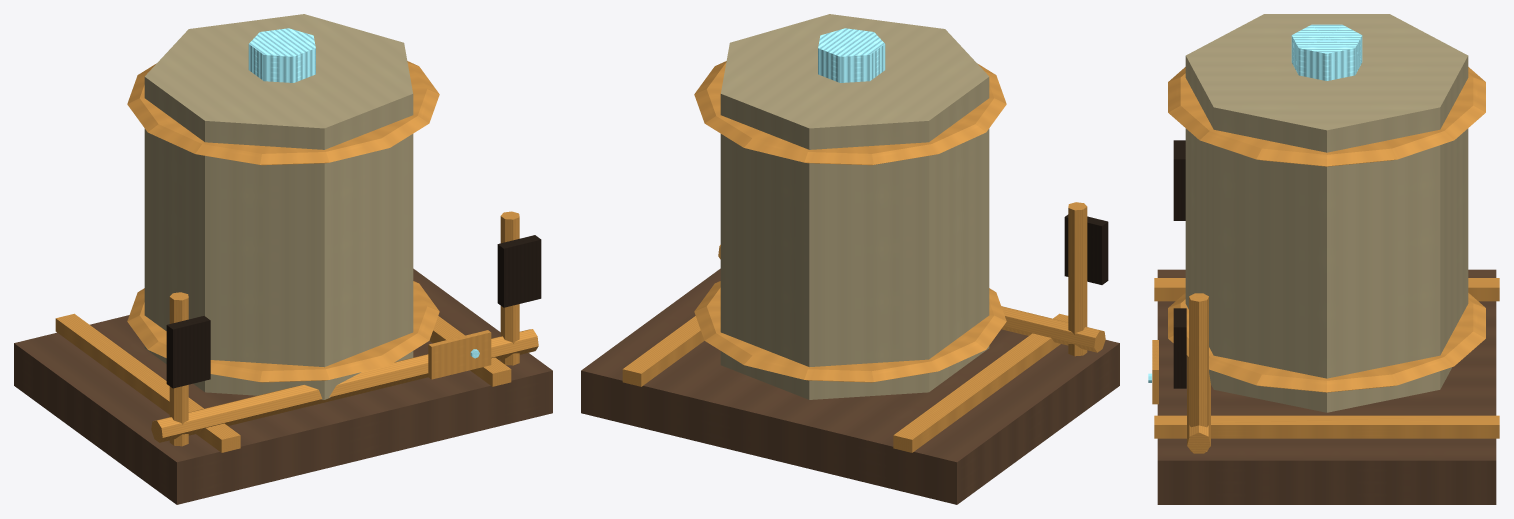
The model's file is atlas100-s017-a02.lod1.glb.
The picture shows the model from 3 angles, left to right: view 1: azimuth 30°, elevation 25°; view 2: azimuth 150°, elevation 25°; view 3: azimuth 270°, elevation 25°; orthographic projection. The views are drawn at different scales.
Visible parts, largest first — view 1: atlas100-s017-a02:part-003, atlas100-s017-a02:part-000, atlas100-s017-a02:part-005, atlas100-s017-a02:part-012, atlas100-s017-a02:part-004, atlas100-s017-a02:part-001, atlas100-s017-a02:part-006, atlas100-s017-a02:part-009, atlas100-s017-a02:part-011, atlas100-s017-a02:part-013, atlas100-s017-a02:part-008, atlas100-s017-a02:part-010 (+1 smaller); view 2: atlas100-s017-a02:part-003, atlas100-s017-a02:part-000, atlas100-s017-a02:part-005, atlas100-s017-a02:part-004, atlas100-s017-a02:part-001, atlas100-s017-a02:part-006, atlas100-s017-a02:part-008, atlas100-s017-a02:part-002, atlas100-s017-a02:part-012, atlas100-s017-a02:part-009; view 3: atlas100-s017-a02:part-003, atlas100-s017-a02:part-000, atlas100-s017-a02:part-005, atlas100-s017-a02:part-002, atlas100-s017-a02:part-004, atlas100-s017-a02:part-006, atlas100-s017-a02:part-010, atlas100-s017-a02:part-001, atlas100-s017-a02:part-011, atlas100-s017-a02:part-009, atlas100-s017-a02:part-012, atlas100-s017-a02:part-013.
Boxes of the visible parts, x1,y1,x2,y2 form: atlas100-s017-a02:part-003: (144, 14, 413, 399); atlas100-s017-a02:part-000: (14, 268, 552, 504); atlas100-s017-a02:part-005: (127, 61, 439, 165); atlas100-s017-a02:part-012: (151, 329, 538, 442); atlas100-s017-a02:part-004: (127, 281, 439, 382); atlas100-s017-a02:part-001: (55, 313, 240, 452); atlas100-s017-a02:part-006: (248, 28, 315, 82); atlas100-s017-a02:part-009: (166, 316, 210, 388); atlas100-s017-a02:part-011: (497, 235, 541, 307); atlas100-s017-a02:part-013: (428, 330, 491, 379); atlas100-s017-a02:part-008: (169, 292, 188, 446); atlas100-s017-a02:part-010: (500, 211, 519, 365); atlas100-s017-a02:part-003: (720, 14, 989, 399); atlas100-s017-a02:part-000: (581, 268, 1119, 504); atlas100-s017-a02:part-005: (694, 61, 1006, 165); atlas100-s017-a02:part-004: (694, 281, 1006, 382); atlas100-s017-a02:part-001: (893, 313, 1068, 452); atlas100-s017-a02:part-006: (818, 28, 885, 82); atlas100-s017-a02:part-008: (1068, 202, 1087, 356); atlas100-s017-a02:part-002: (622, 316, 704, 386); atlas100-s017-a02:part-012: (718, 245, 1105, 352); atlas100-s017-a02:part-009: (1064, 214, 1108, 284); atlas100-s017-a02:part-003: (1185, 14, 1468, 412); atlas100-s017-a02:part-000: (1157, 269, 1496, 504); atlas100-s017-a02:part-005: (1168, 67, 1485, 166); atlas100-s017-a02:part-002: (1154, 415, 1499, 438); atlas100-s017-a02:part-004: (1168, 293, 1485, 392); atlas100-s017-a02:part-006: (1291, 24, 1362, 80); atlas100-s017-a02:part-010: (1189, 293, 1208, 451); atlas100-s017-a02:part-001: (1154, 278, 1499, 301); atlas100-s017-a02:part-011: (1173, 308, 1186, 388); atlas100-s017-a02:part-009: (1173, 140, 1185, 220); atlas100-s017-a02:part-012: (1187, 355, 1210, 453); atlas100-s017-a02:part-013: (1152, 340, 1158, 404).
Size of the model in its own units: 2.4 by 2.18 by 1.87.
5 materials, 5 textured.
